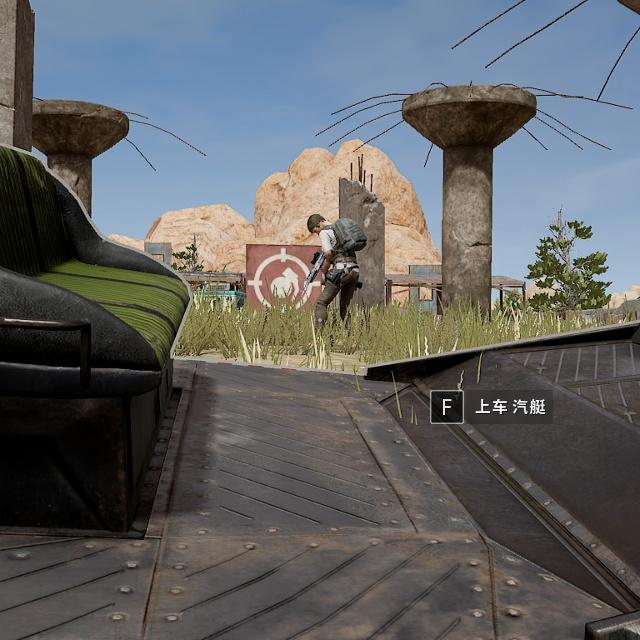head: (303, 211, 335, 236)
people: (300, 205, 369, 355)
